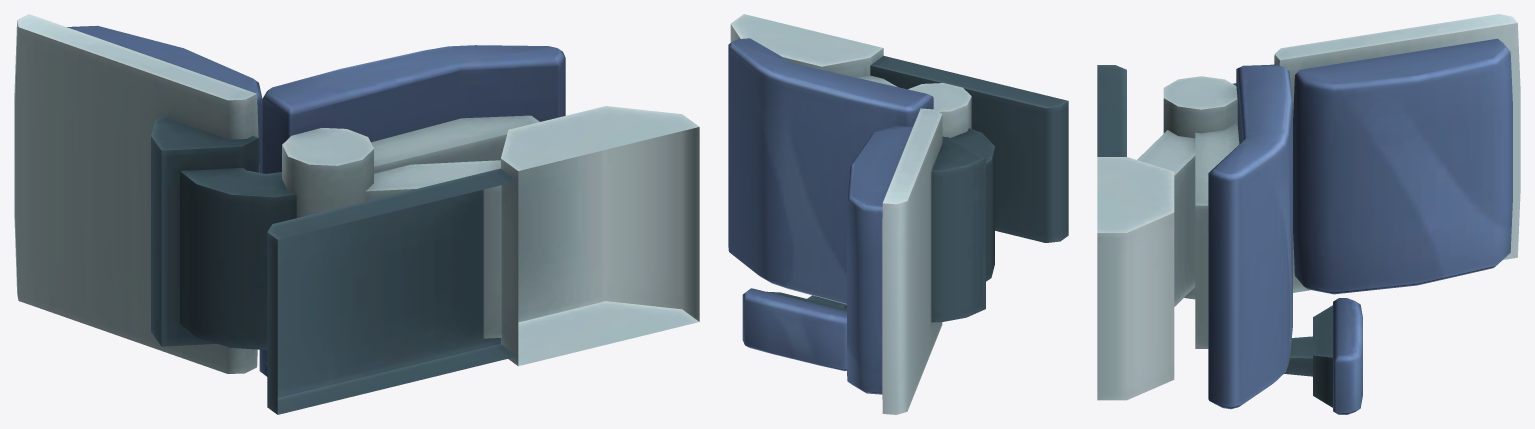
File: DentistChair.fbx
The picture shows the model from 3 angles, left to right: view 1: azimuth 30°, elevation 25°; view 2: azimuth 150°, elevation 25°; view 3: azimuth 270°, elevation 25°; orthographic projection. The views are drawn at different scales.
Parts seen in each view (by area): view 1: DentistChair; view 2: DentistChair; view 3: DentistChair.
Part boxes in pixels (x1,y1,x2,y2): DentistChair: (14,14,699,414); DentistChair: (728,14,1068,414); DentistChair: (1097,14,1520,414).
Bounding box in the file's own units: 106 × 73.23 × 101.
